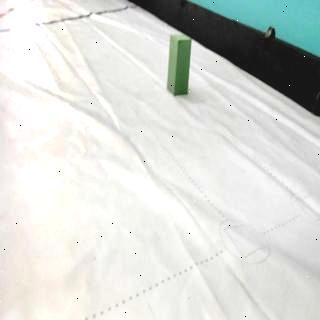greenbox: (168, 32, 192, 96)
